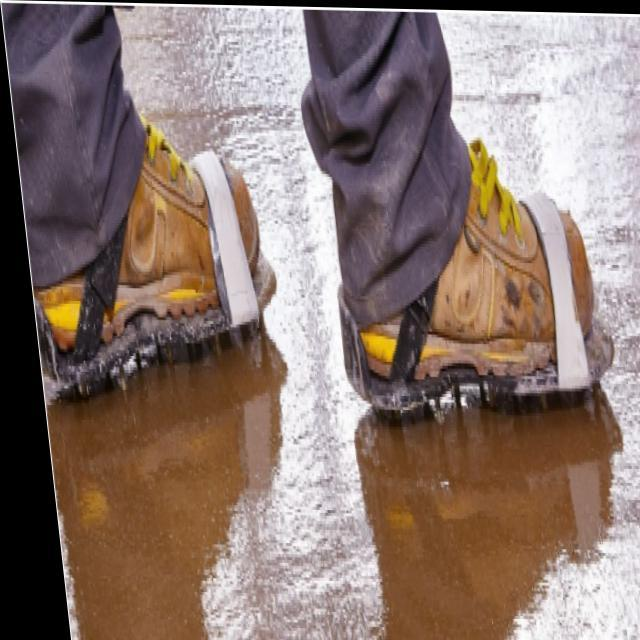boots: (4, 34, 626, 423)
